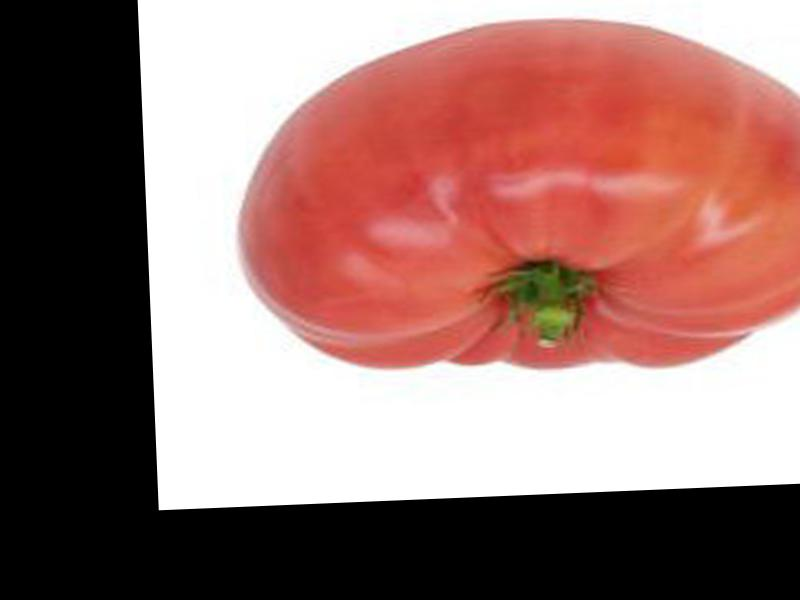Tomato: (232, 10, 800, 376)
